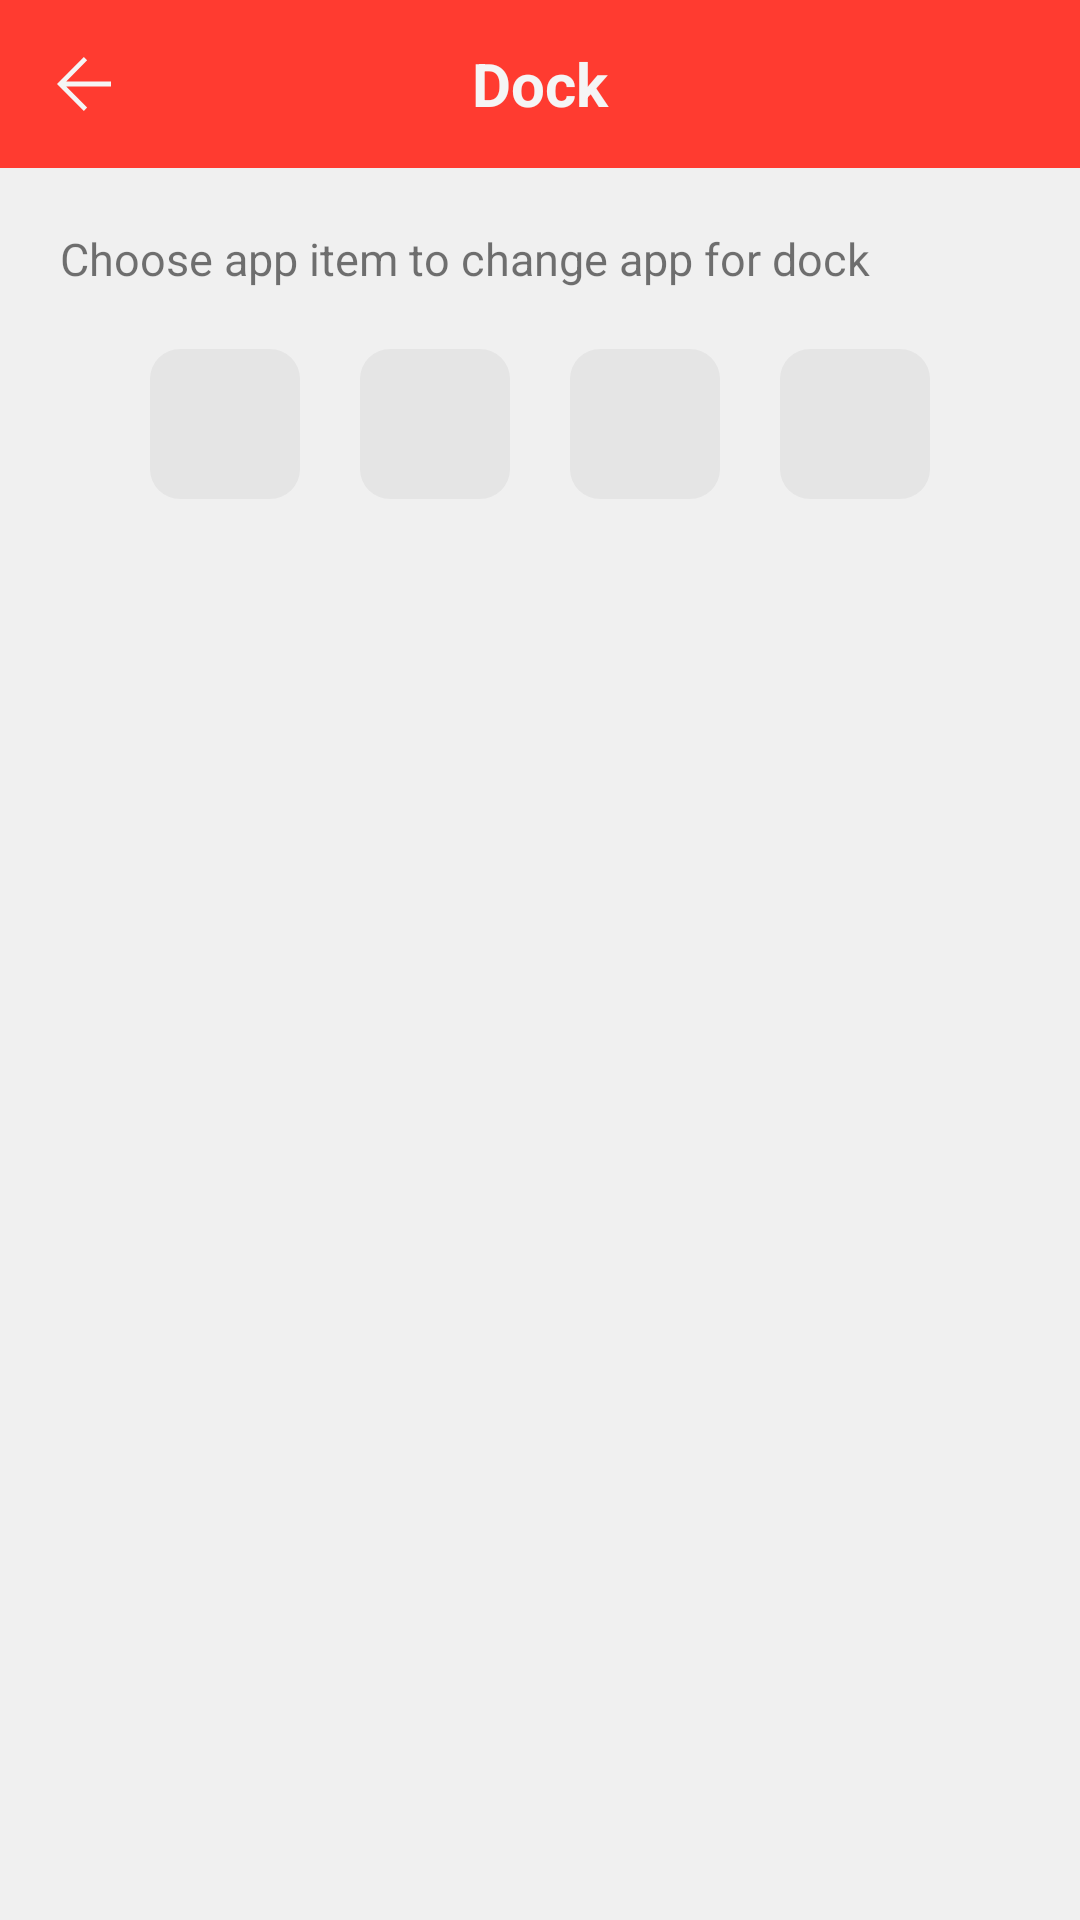

Icon click points for this 1080x1920 phone screenshot, format [x,y]:
back: [84,84]
